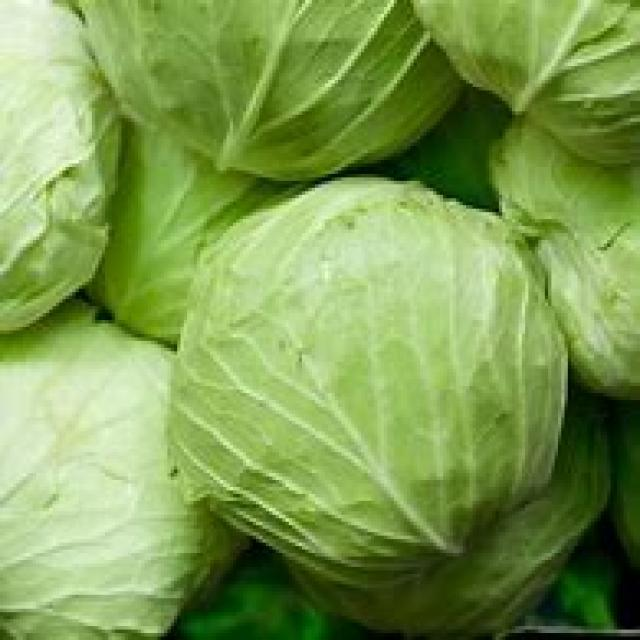cabbage: (172, 169, 566, 586)
